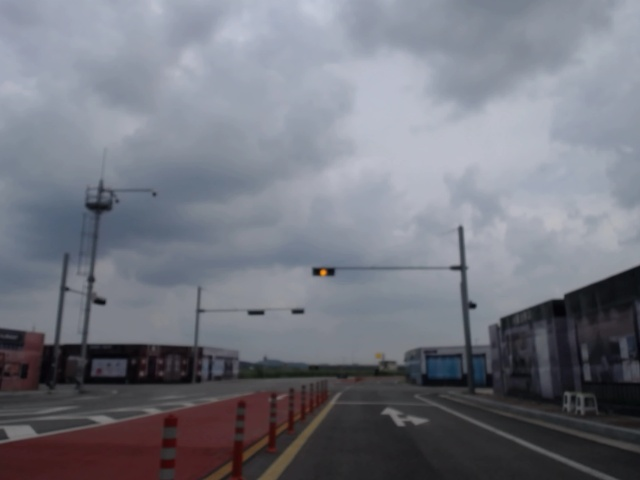orange_3: (312, 268, 335, 276)
